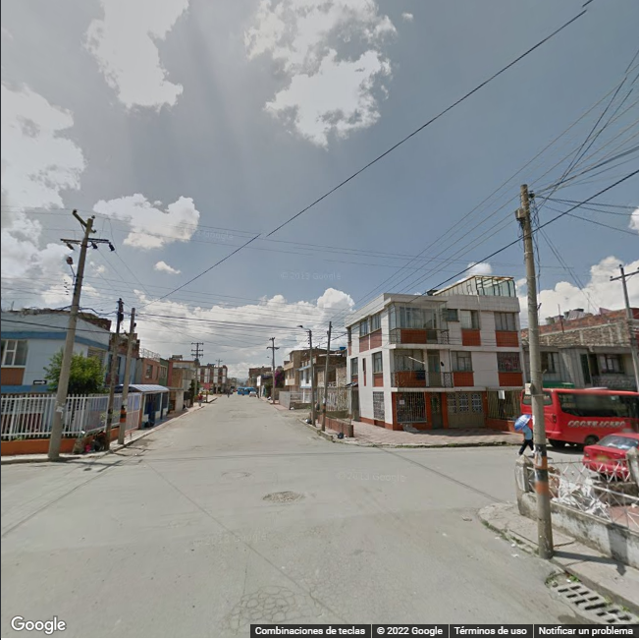D00: (234, 565, 250, 634)
D20: (216, 582, 296, 625), (307, 575, 364, 617)
